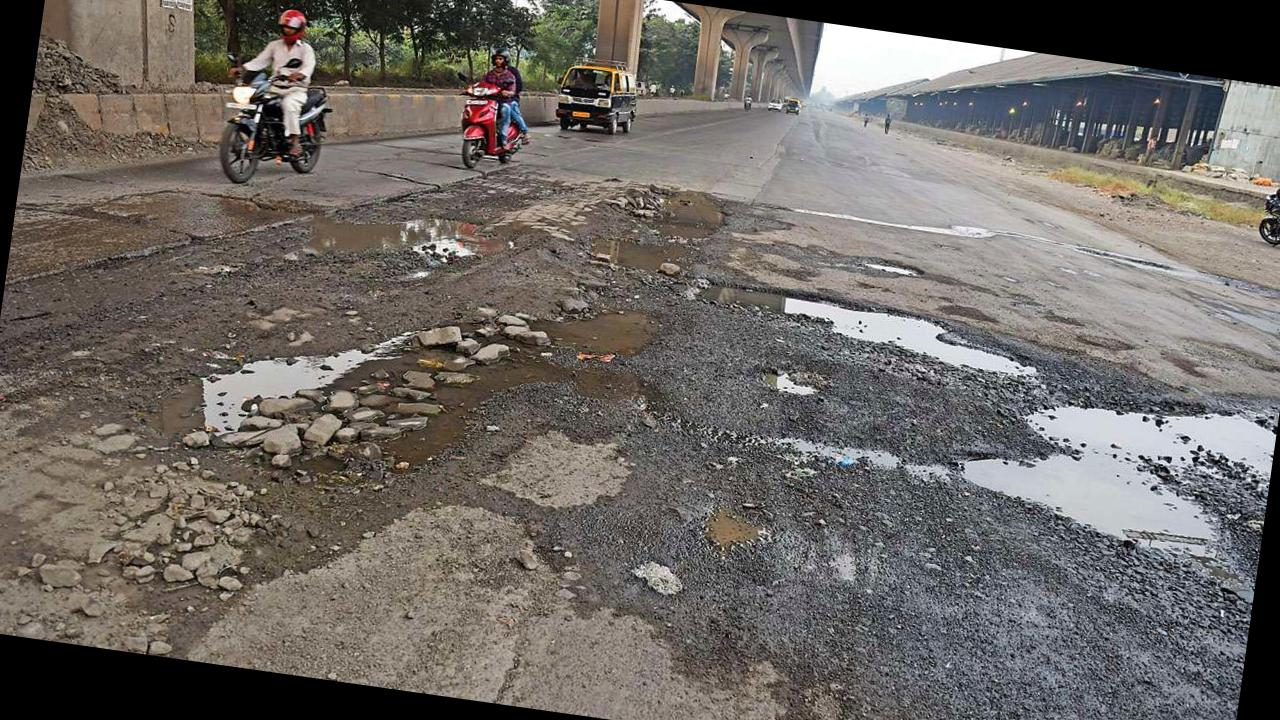pothole: (88, 221, 610, 543), (896, 338, 1280, 605), (676, 257, 1068, 403), (255, 166, 532, 290), (586, 156, 752, 298), (504, 277, 691, 387), (649, 460, 810, 586), (726, 347, 852, 418), (1055, 239, 1199, 280), (838, 239, 949, 290)
